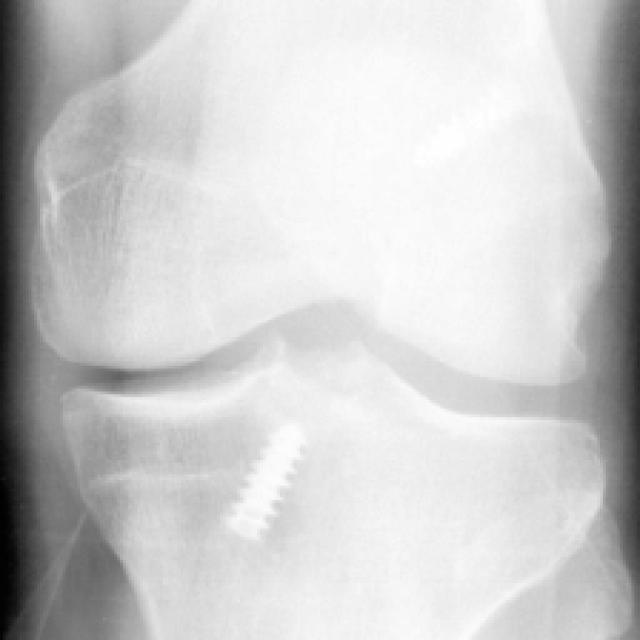femur: (31, 0, 606, 386)
tibia: (59, 337, 605, 640)
